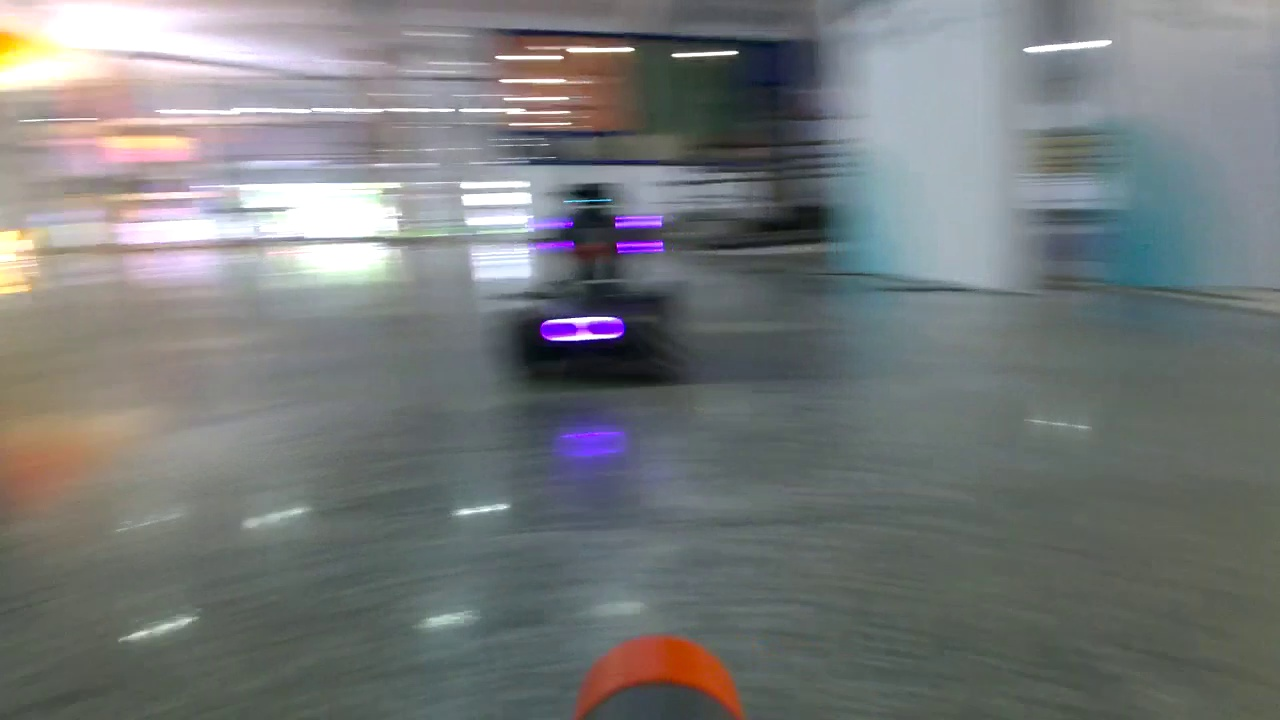robot: (516, 182, 669, 385)
